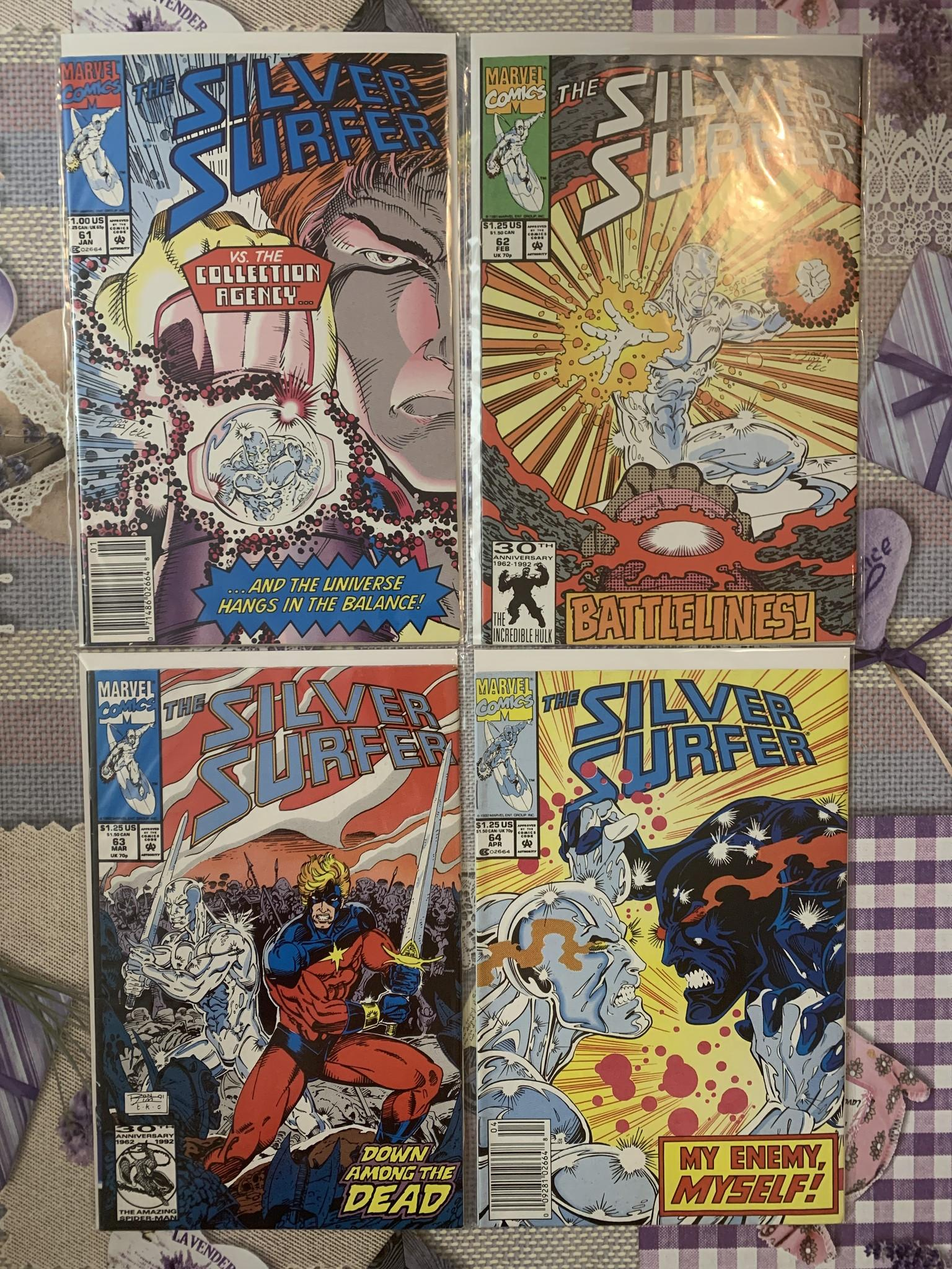comic: (59, 27, 466, 649), (473, 33, 860, 646), (84, 648, 468, 1235), (475, 649, 850, 1227)
